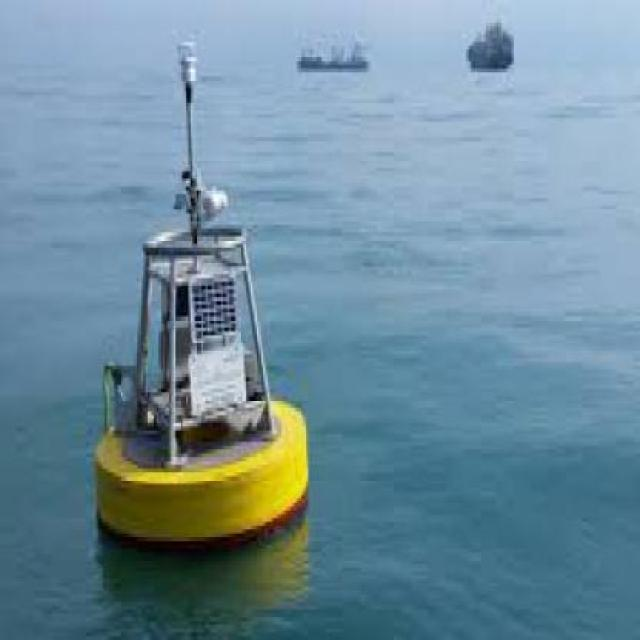buoy: (76, 36, 322, 565)
